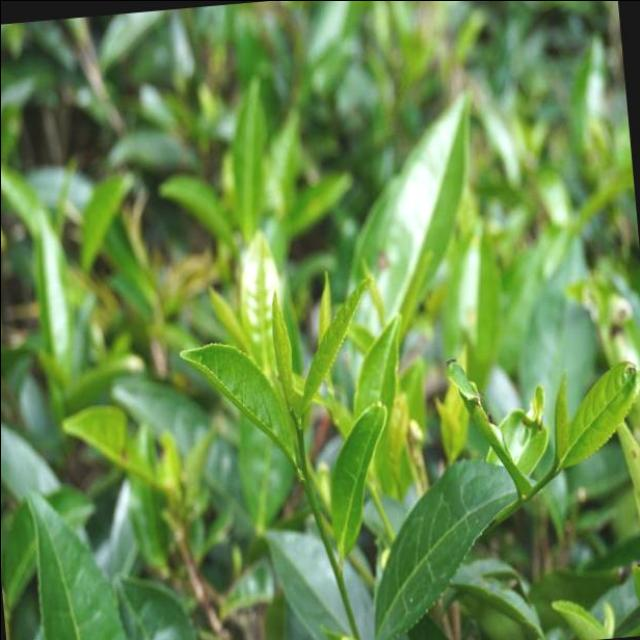Stem: (543, 468, 556, 481), (297, 427, 303, 439)
